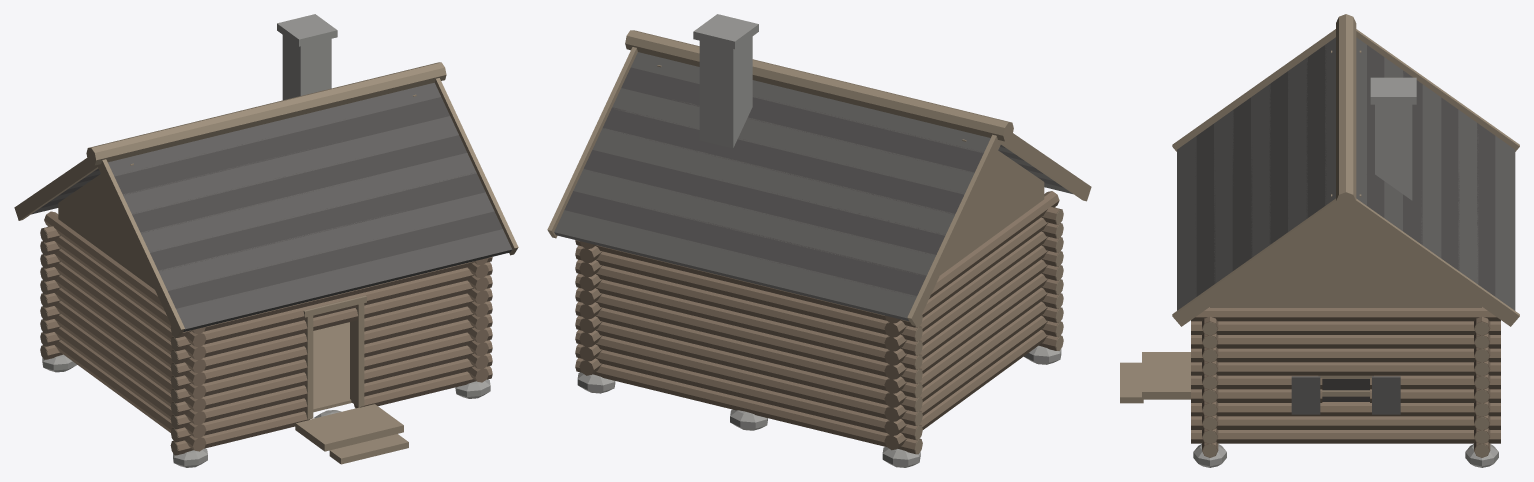
Rendered from Izba.fbx.
The picture shows the model from 3 angles, left to right: view 1: azimuth 30°, elevation 25°; view 2: azimuth 150°, elevation 25°; view 3: azimuth 270°, elevation 25°; orthographic projection. The views are drawn at different scales.
Visible parts, largest first — view 1: Izba; view 2: Izba; view 3: Izba.
Part boxes in pixels (x1,y1,x2,y2): Izba: (14,14,518,467); Izba: (547,14,1091,467); Izba: (1120,14,1519,467).
Bounding box in the file's own units: 620 × 548 × 588.
